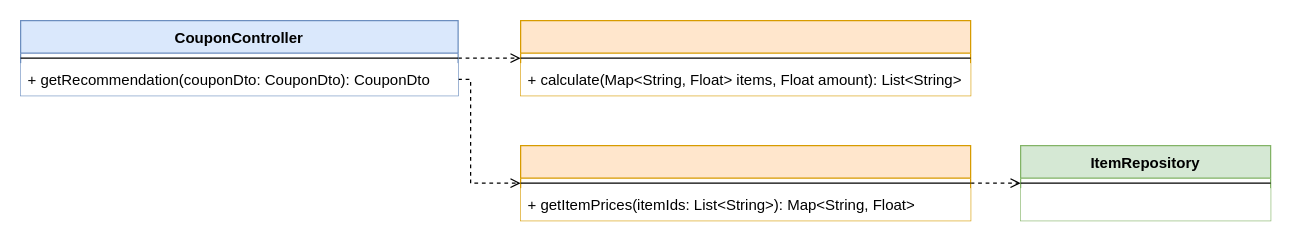
Image size: 1291x241. Some labels were removed from this diagram. Each missing label, with the box of its shape:
+ findItemPrice(itemId String): Float: (1020, 188, 1270, 220)
CouponService: (519, 19, 971, 96)
ItemService: (519, 144, 971, 221)
